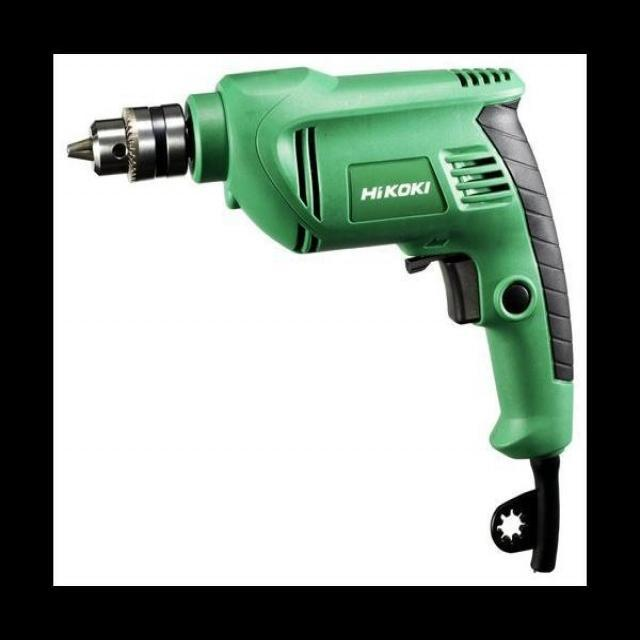drill: (64, 65, 574, 574)
